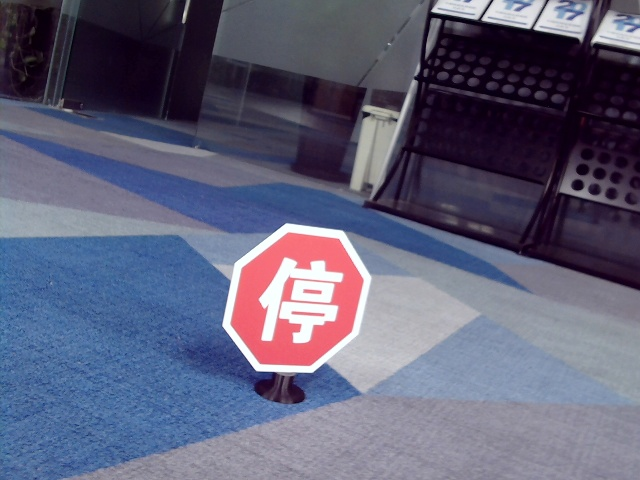stop: (258, 255, 341, 345)
